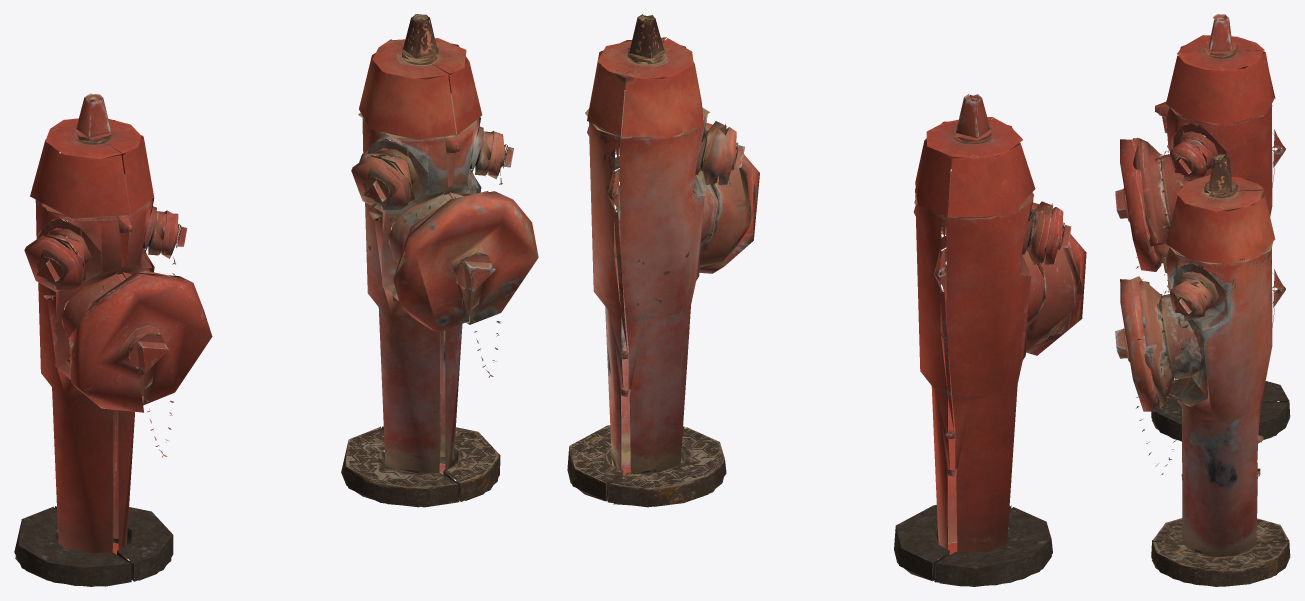
The model's file is fire_hydrant.glb.
3 views of the same model, side by side, from view 1: azimuth 30°, elevation 25°; view 2: azimuth 150°, elevation 25°; view 3: azimuth 270°, elevation 25° (orthographic). The views are drawn at different scales.
Parts seen in each view (by area): view 1: fire_hydrant; view 2: fire_hydrant; view 3: fire_hydrant.
Boxes of the visible parts, box(x1,y1,x2,y2) form: fire_hydrant: box(14, 14, 538, 586); fire_hydrant: box(567, 14, 1086, 586); fire_hydrant: box(1115, 14, 1290, 586).
Bounding box in the file's own units: 0.8777 × 0.8005 × 0.3184.
Materials: 2 (2 with a texture image).
